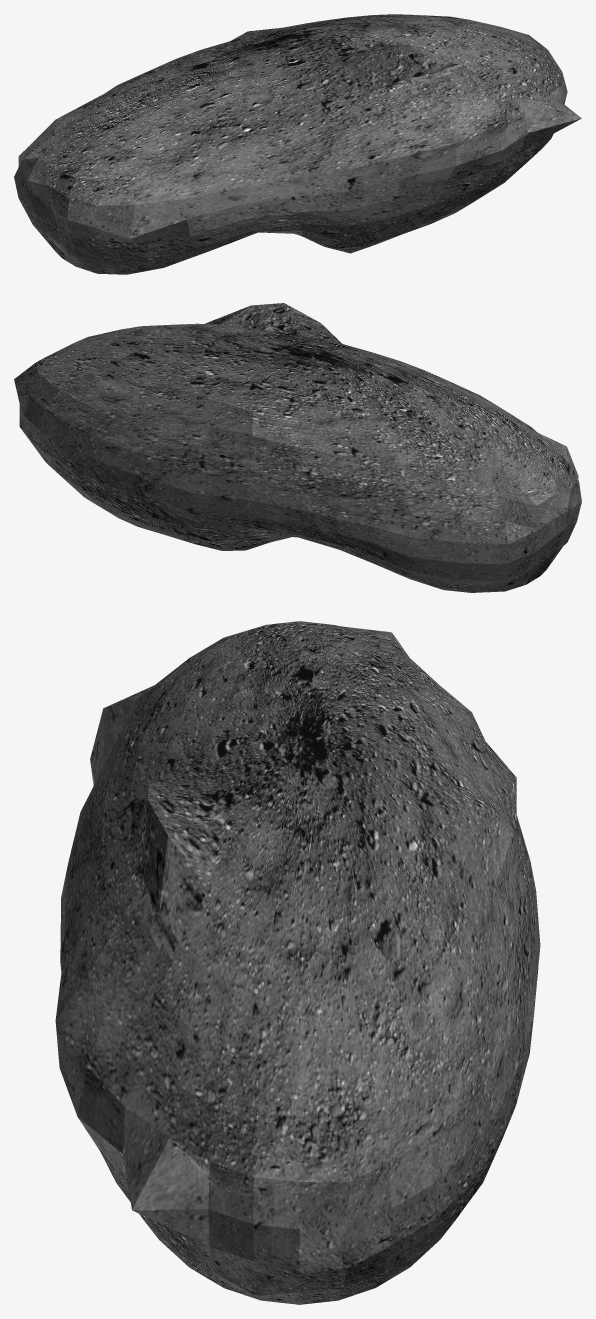
File: ItokawaReal.glb
The picture shows the model from 3 angles, top to bottom: view 1: azimuth 30°, elevation 25°; view 2: azimuth 150°, elevation 25°; view 3: azimuth 270°, elevation 25°; orthographic projection. The views are drawn at different scales.
Parts seen in each view (by area): view 1: Sphere; view 2: Sphere; view 3: Sphere.
Part boxes in pixels (bbox=[...]): Sphere: bbox=[14, 14, 581, 274]; Sphere: bbox=[14, 303, 581, 592]; Sphere: bbox=[55, 621, 540, 1304].
Bounding box in the file's own units: 5.12 × 1.89 × 2.03.
1 material, 1 textured.
